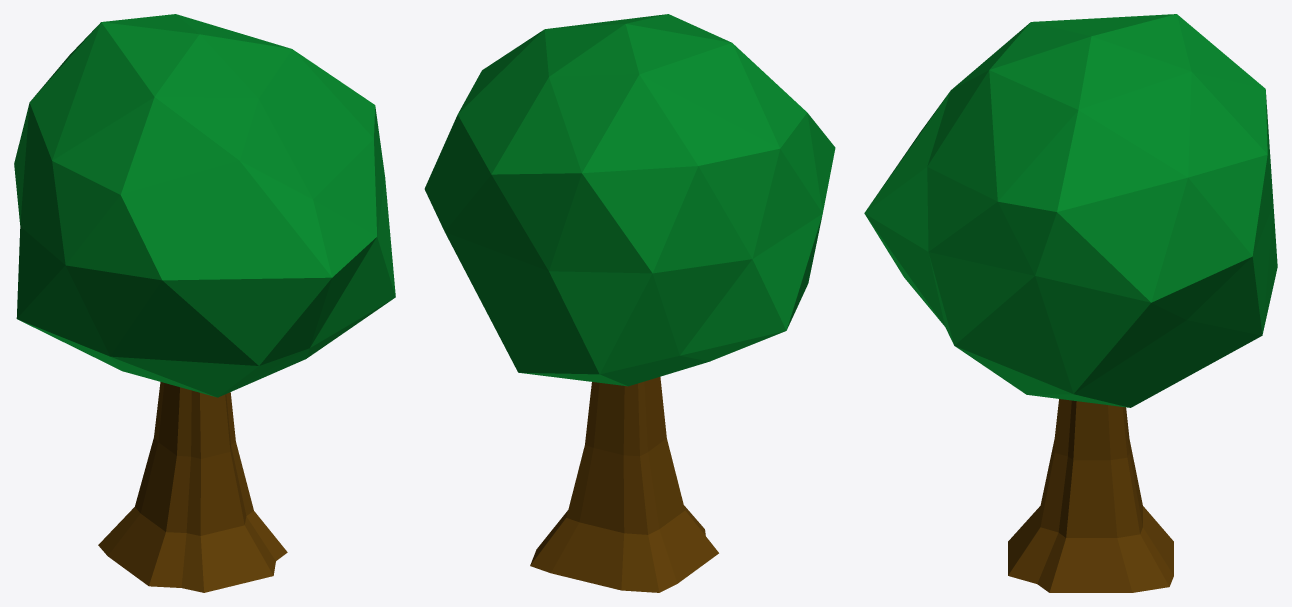
File: tree.fbx
3 views of the same model, side by side, from view 1: azimuth 30°, elevation 25°; view 2: azimuth 150°, elevation 25°; view 3: azimuth 270°, elevation 25° (orthographic).
Parts seen in each view (by area): view 1: Icosphere, Plane; view 2: Icosphere, Plane; view 3: Icosphere, Plane.
Boxes of the visible parts, x1,y1,x2,y2 form: Icosphere: (14, 14, 395, 397); Plane: (98, 382, 287, 592); Icosphere: (424, 14, 835, 386); Plane: (530, 377, 718, 592); Icosphere: (864, 14, 1277, 407); Plane: (1008, 399, 1173, 592).
Size of the model in its own units: 1939 by 2837 by 2031.
